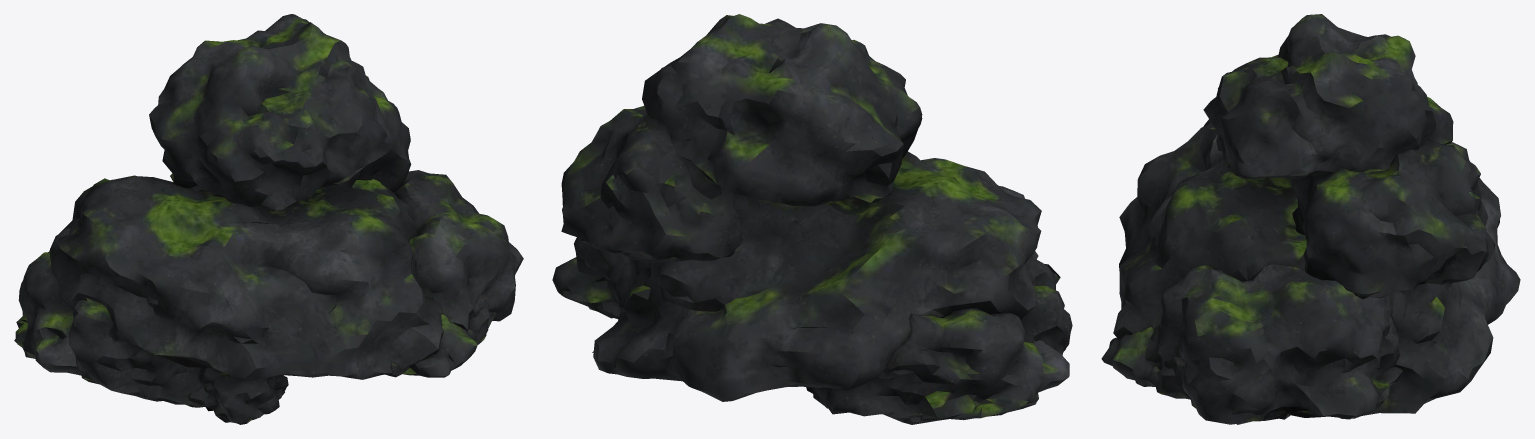
File: rockpile.glb
The picture shows the model from 3 angles, left to right: view 1: azimuth 30°, elevation 25°; view 2: azimuth 150°, elevation 25°; view 3: azimuth 270°, elevation 25°; orthographic projection. The views are drawn at different scales.
Visible parts, largest first — view 1: Pile0, Pile1; view 2: Pile0, Pile1; view 3: Pile0, Pile1.
Boxes of the visible parts, x1,y1,x2,y2 form: Pile0: (14,14,523,424); Pile1: (69,75,496,407); Pile0: (552,14,1069,424); Pile1: (561,106,1072,355); Pile0: (1101,14,1520,424); Pile1: (1156,139,1495,419).
Size of the model in its own units: 1.47 by 0.9556 by 1.11.
2 materials, 2 textured.
